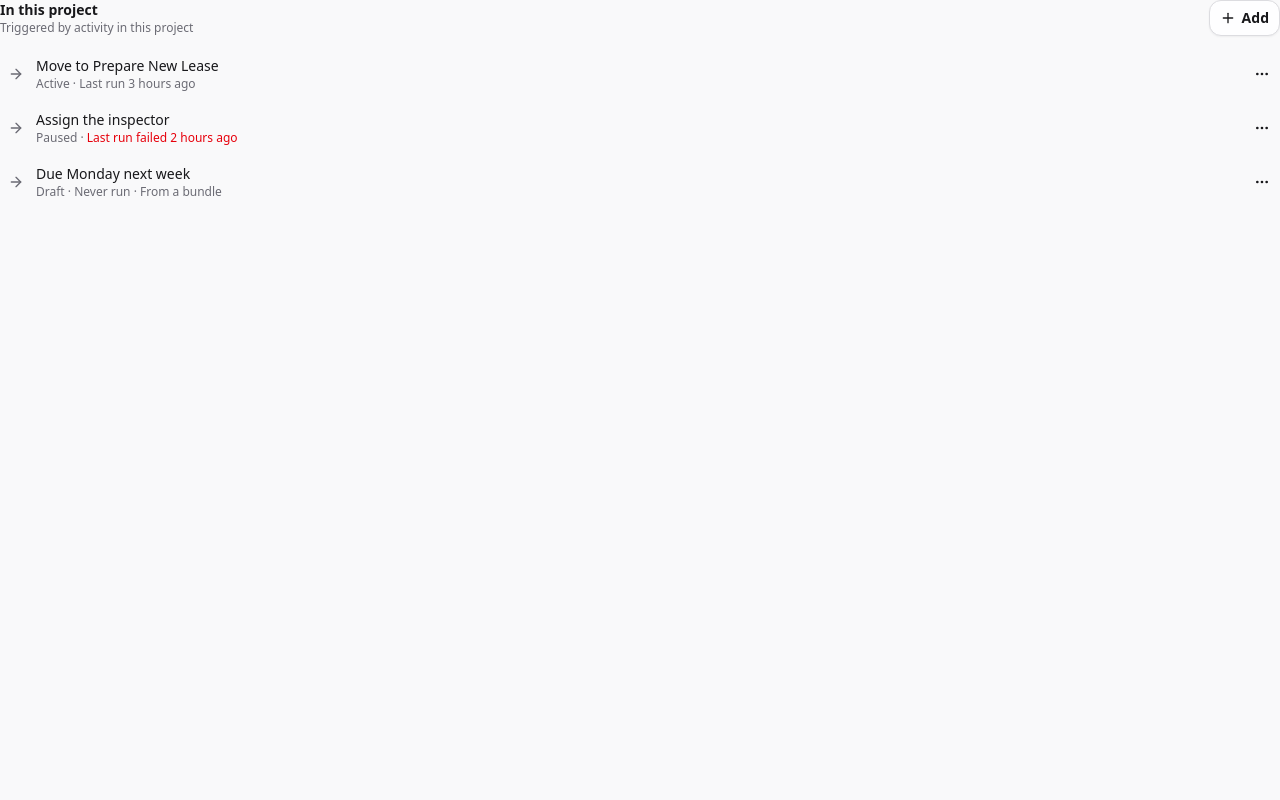
Test case: CustomizeRulesSection › asks before archiving a rule that has run
This screenshot has width=1280, height=800.
Click the button named "Actions for Assign the inspector" at (1262, 128), box [1248,114,1276,142]
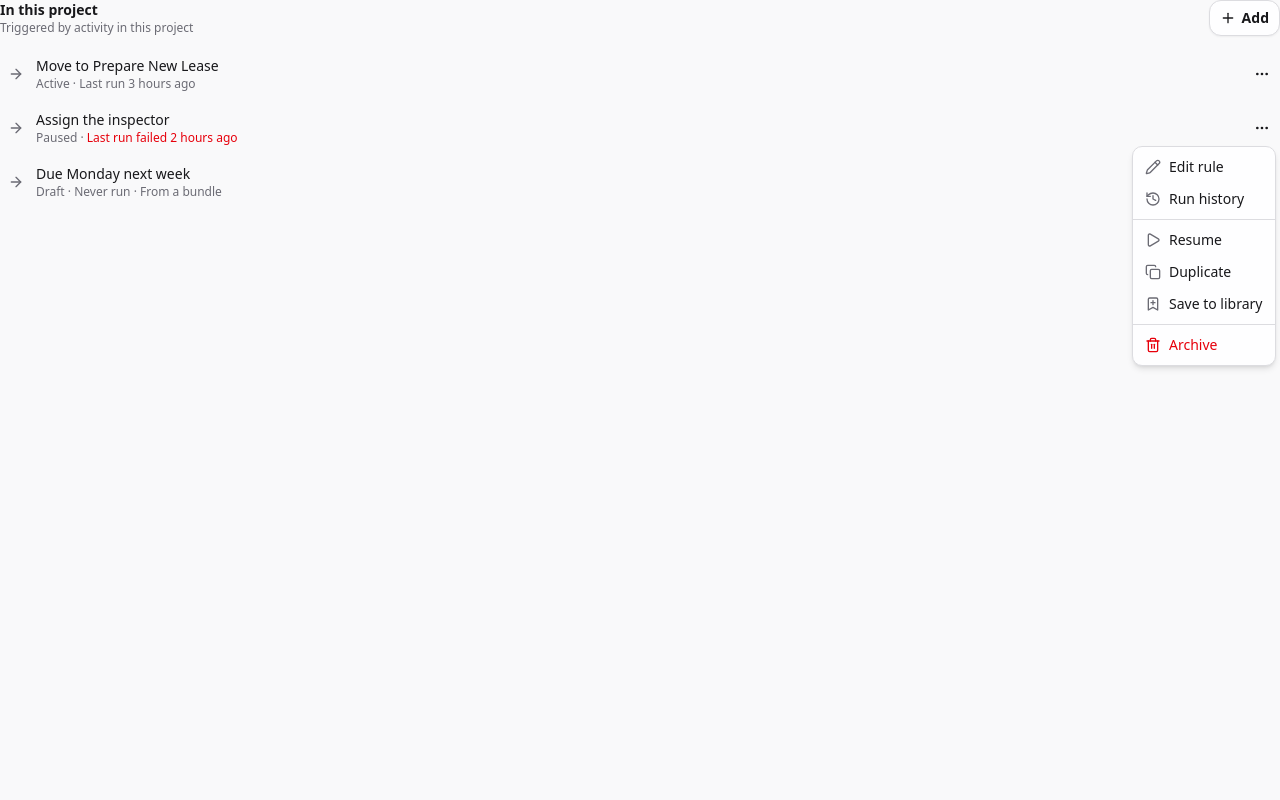
Click the menu item "Archive" at (1181, 344), box [1145,335,1218,354]
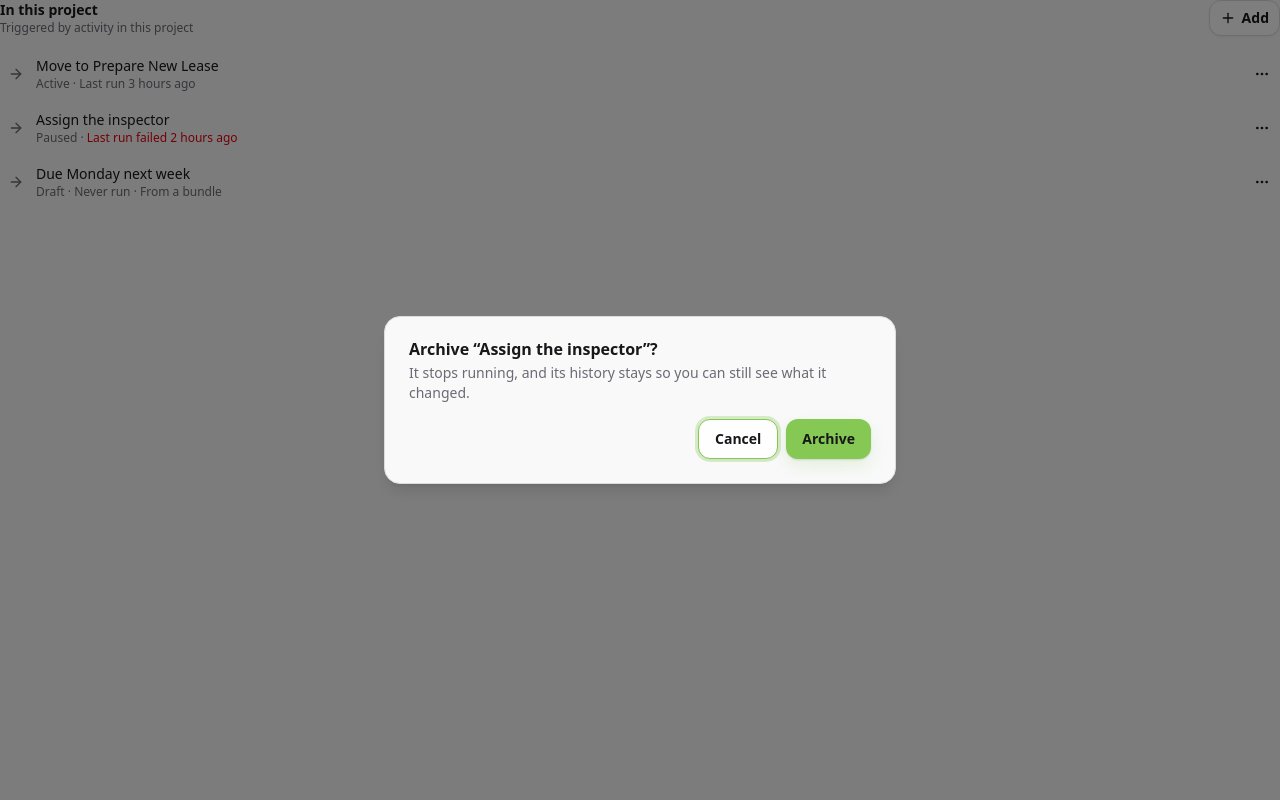
Result: the dialog shows "Archive “Assign the inspector”?" at [384,316,896,484]
